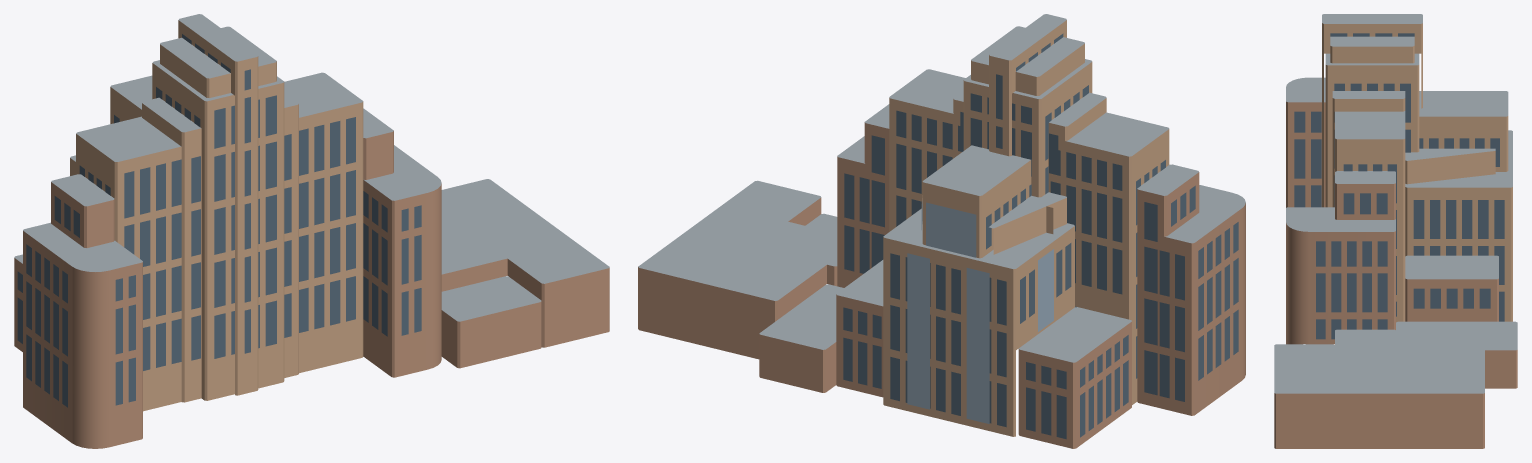
Rendered from sea-pacific-tower.glb.
The picture shows the model from 3 angles, left to right: view 1: azimuth 30°, elevation 25°; view 2: azimuth 150°, elevation 25°; view 3: azimuth 270°, elevation 25°; orthographic projection. The views are drawn at different scales.
Visible parts, largest first — view 1: Pacific Tower; view 2: Pacific Tower; view 3: Pacific Tower.
Part boxes in pixels (left/top/right/bottom): Pacific Tower: left=14, top=14, right=609, bottom=448; Pacific Tower: left=638, top=14, right=1245, bottom=448; Pacific Tower: left=1274, top=14, right=1517, bottom=448.
Bounding box in the file's own units: 111 × 68 × 52.
